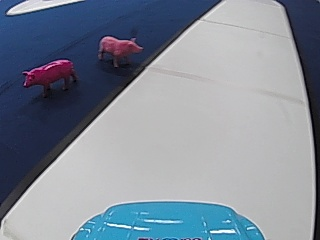pig: (19, 55, 78, 97), (96, 32, 143, 69)
